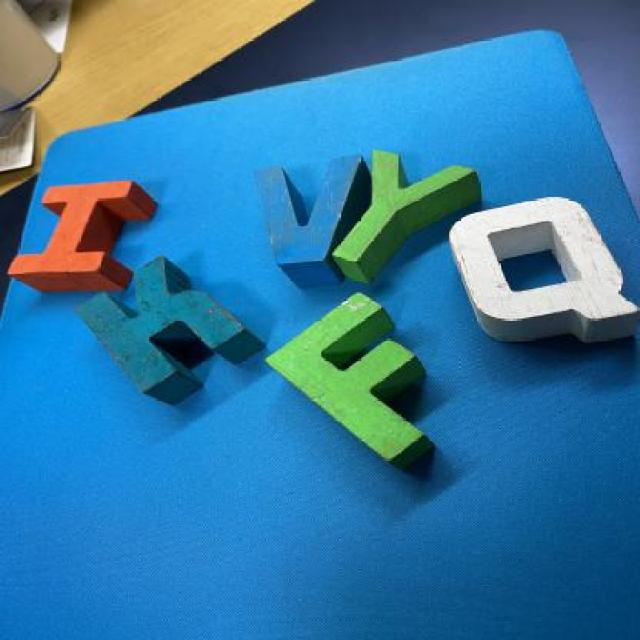F: (251, 294, 449, 469)
I: (5, 172, 164, 288)
K: (85, 259, 241, 401)
Q: (434, 193, 640, 358)
V: (246, 160, 360, 285)
Y: (340, 150, 482, 270)
